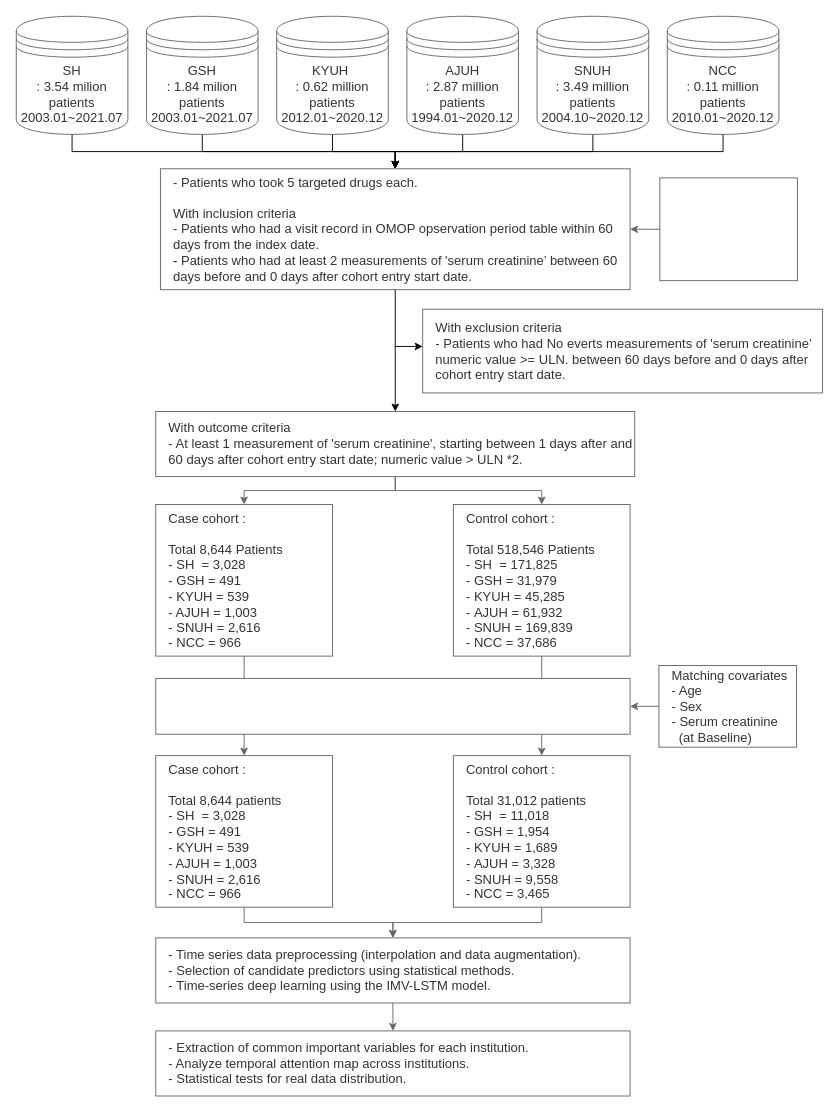
This 839x1112 diagram has some shape labels left out. Here are the shapes that lost their labels. From the top down, the centre of each, then its label:
At [728,229]: "Targeted drugs - Acetaminophen - Vancomycin - Naproxen - Celecoxib - Acyclovir".
At [392,706]: "- Patients matched with propensity scores in a 1:3 ratio.".
